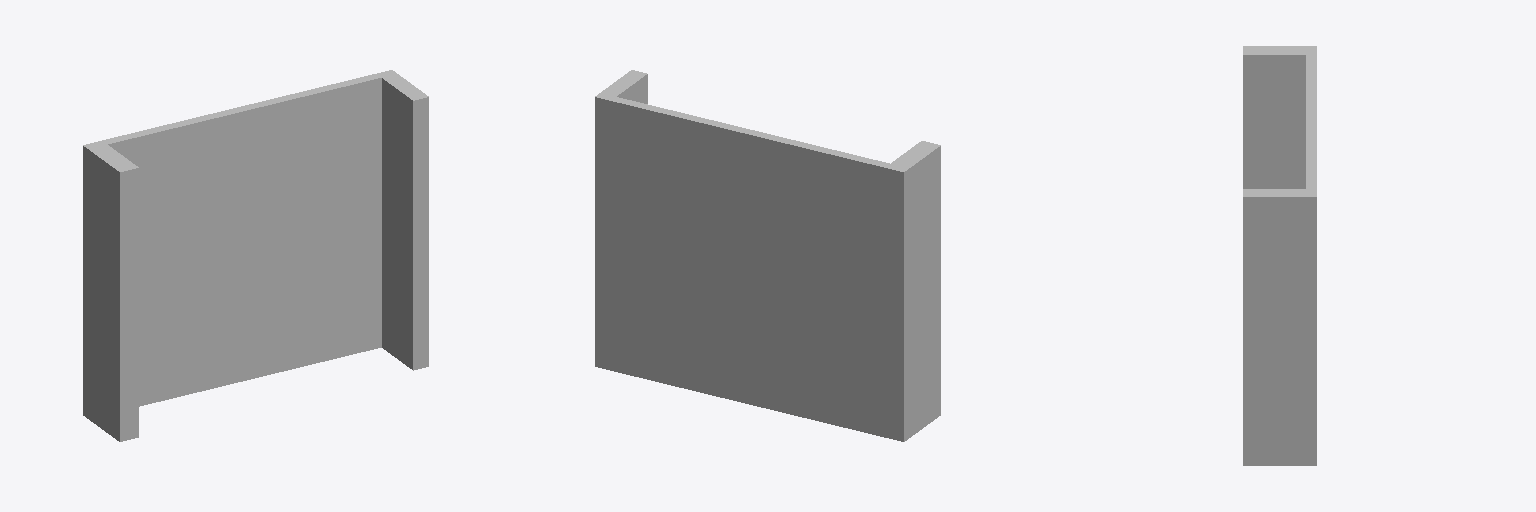
The model's file is gatewayholder.obj.
3 renders of one model, left to right at view 1: azimuth 30°, elevation 25°; view 2: azimuth 150°, elevation 25°; view 3: azimuth 270°, elevation 25°, orthographic.
Parts seen in each view (by area): view 1: Body5; view 2: Body5; view 3: Body5.
Boxes of the visible parts, box(x1,y1,x2,y2) form: Body5: box(83, 70, 428, 441); Body5: box(595, 70, 940, 441); Body5: box(1243, 46, 1316, 465).
Bounding box in the file's own units: 96 × 80 × 20.